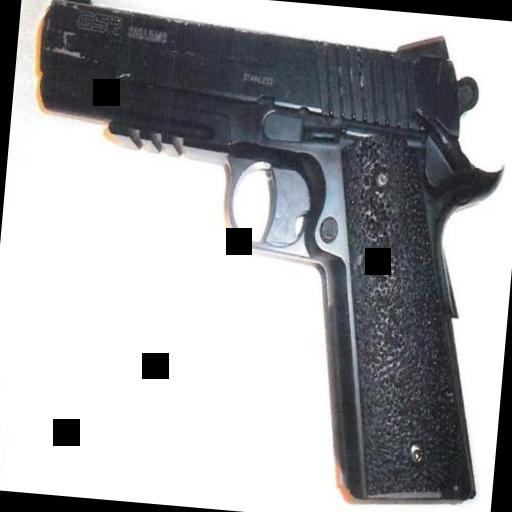Handgun: (1, 0, 512, 509)
